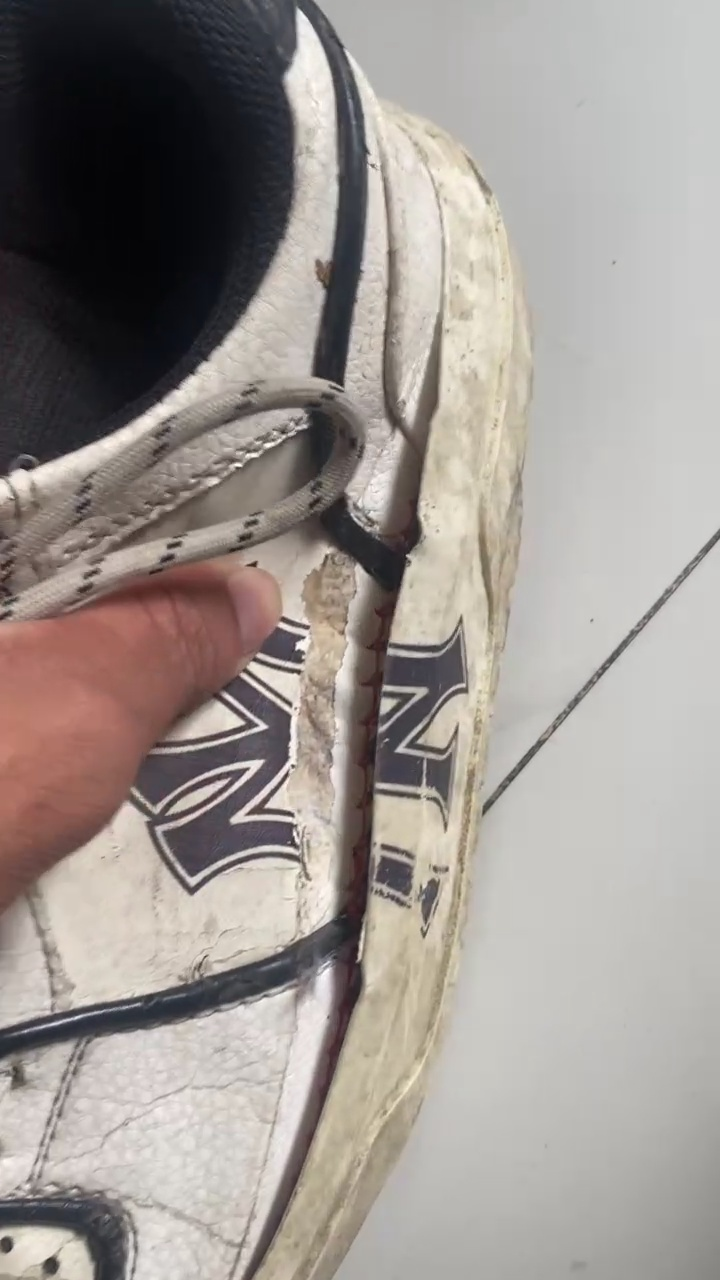bonding: (304, 408, 447, 712), (272, 936, 373, 1166), (303, 714, 392, 928)
